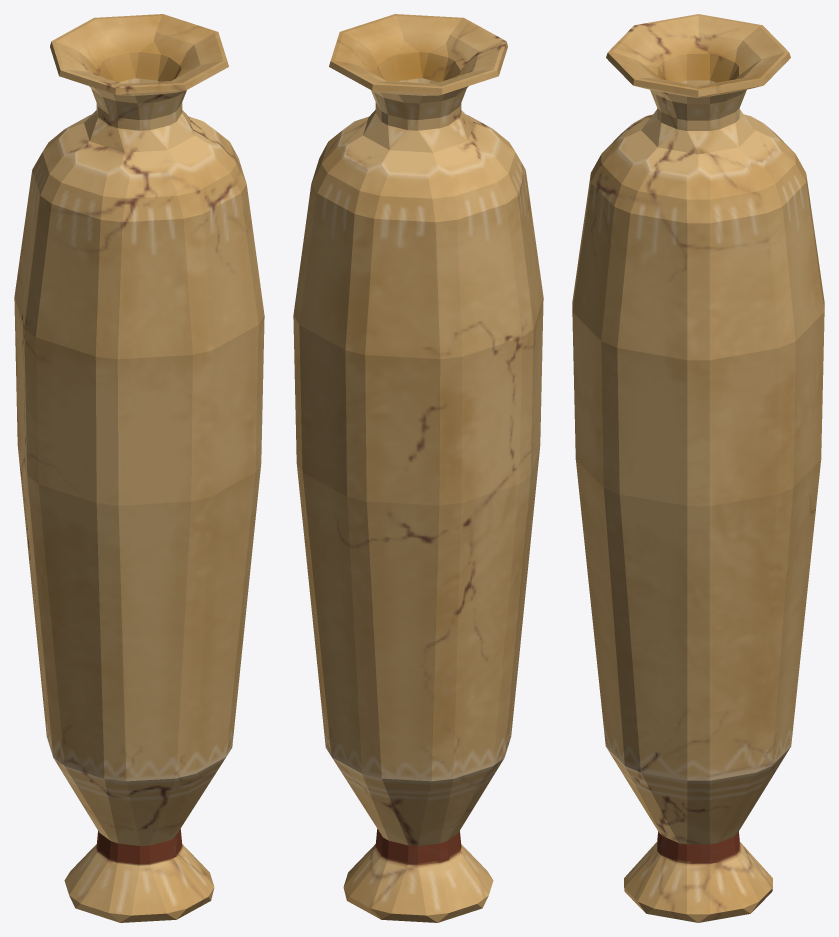
The model's file is vase2.fbx.
The picture shows the model from 3 angles, left to right: view 1: azimuth 30°, elevation 25°; view 2: azimuth 150°, elevation 25°; view 3: azimuth 270°, elevation 25°; orthographic projection.
Visible parts, largest first — view 1: vase2; view 2: vase2; view 3: vase2.
Part boxes in pixels (box(x1,y1,x2,y2)): vase2: box(14, 14, 264, 922); vase2: box(293, 14, 543, 922); vase2: box(572, 14, 824, 922).
Bounding box in the file's own units: 23.85 × 87.58 × 23.85.
